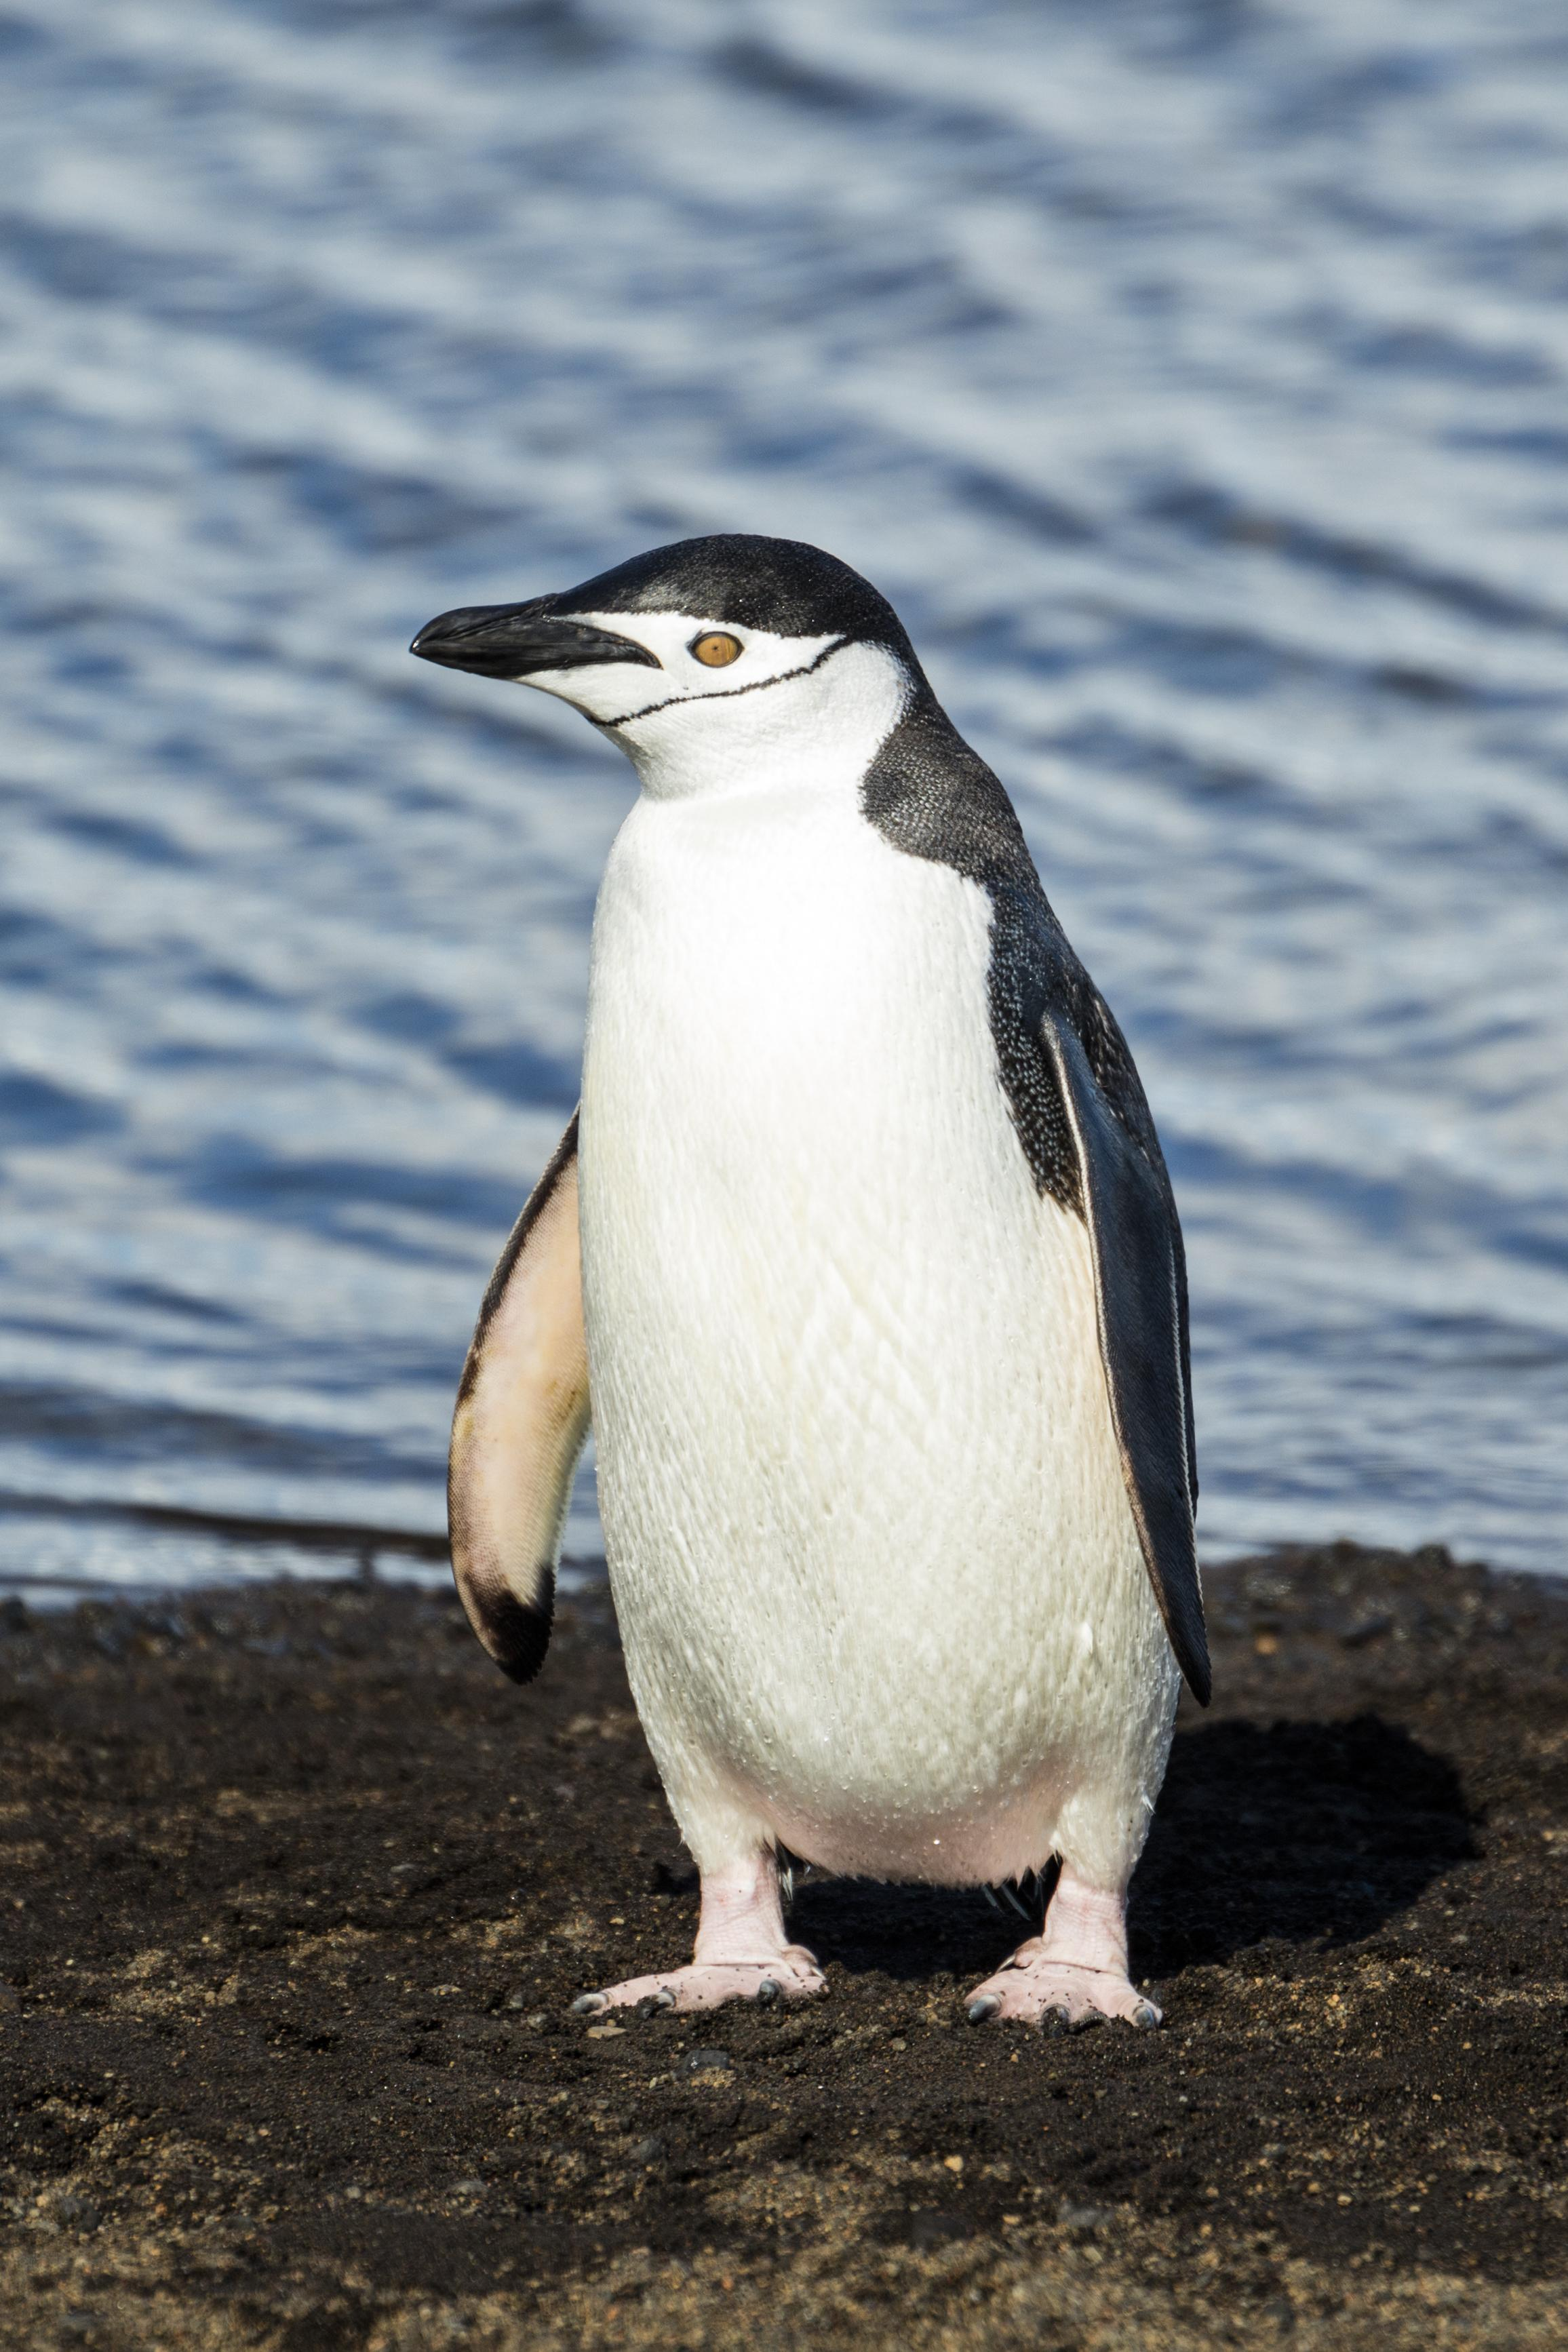chinstrap: (334, 455, 1328, 2081)
